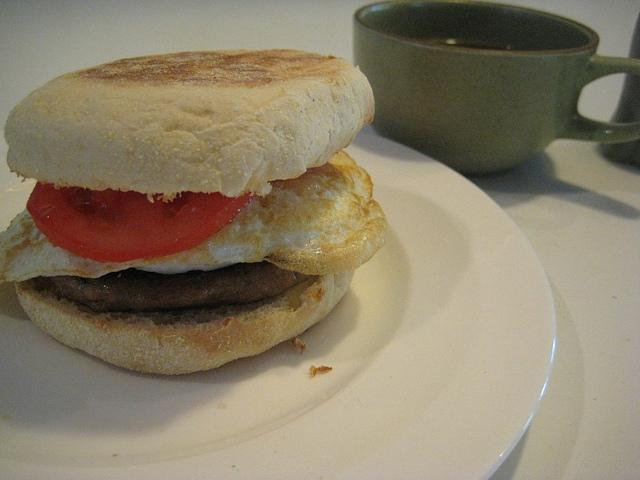tomato: (25, 180, 256, 263)
